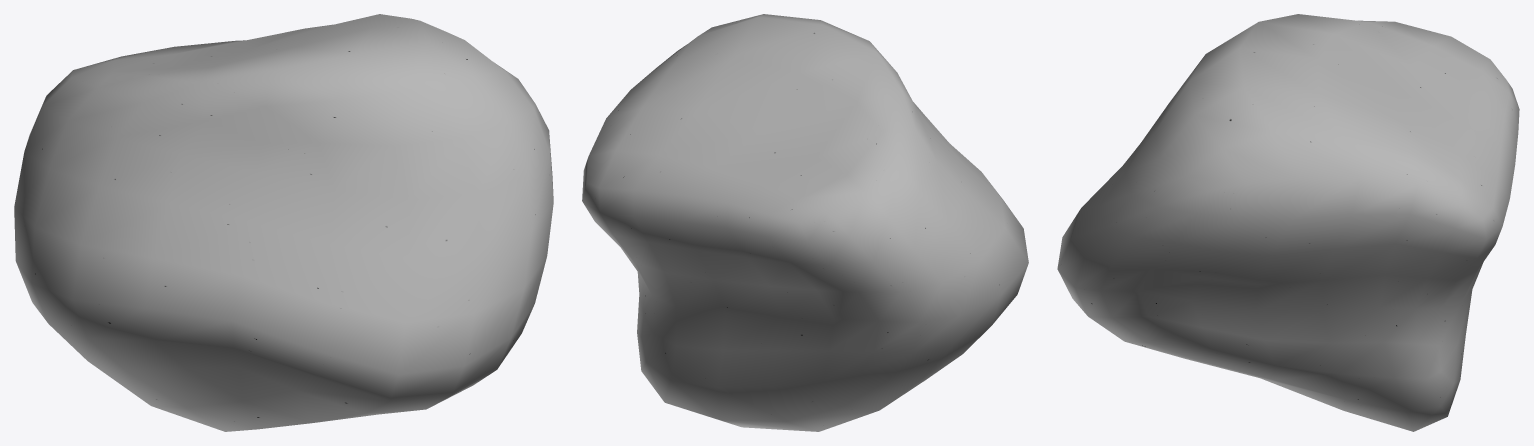
The model's file is WaxWorld_Boulder_1.fbx.
The picture shows the model from 3 angles, left to right: view 1: azimuth 30°, elevation 25°; view 2: azimuth 150°, elevation 25°; view 3: azimuth 270°, elevation 25°; orthographic projection. The views are drawn at different scales.
Visible parts, largest first — view 1: Box001; view 2: Box001; view 3: Box001.
Part boxes in pixels (x1,y1,x2,y2): Box001: (14, 14, 553, 431); Box001: (582, 14, 1028, 431); Box001: (1057, 14, 1519, 431).
Bounding box in the file's own units: 157 × 138 × 157.
Materials: 1 (1 with a texture image).
